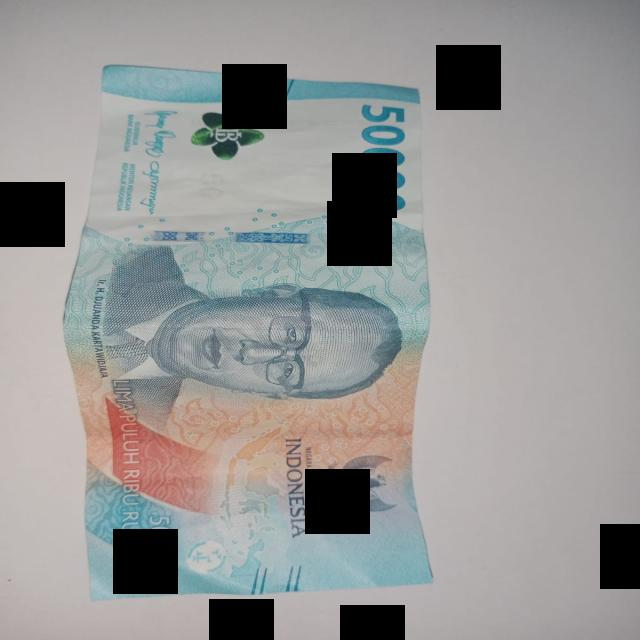lima puluh ribu rupiah: (65, 65, 432, 600)
